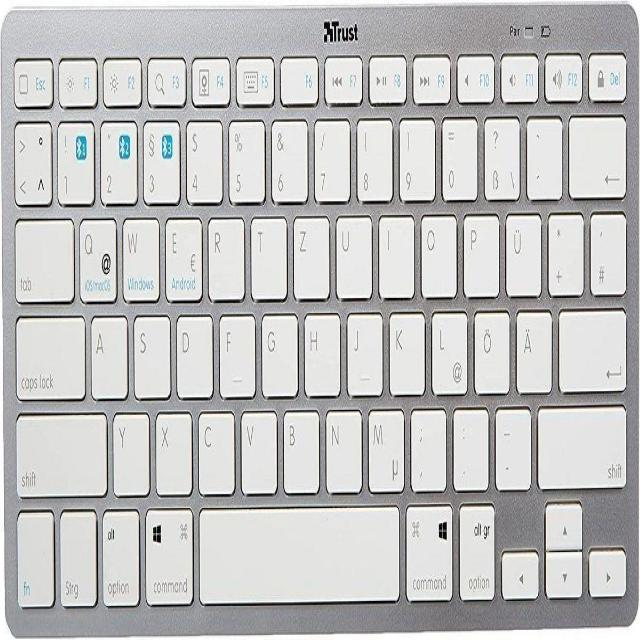0: (438, 109, 477, 199)
1: (55, 115, 94, 203)
2: (99, 113, 138, 203)
3: (140, 113, 180, 203)
4: (183, 113, 222, 201)
5: (225, 112, 264, 200)
6: (268, 112, 307, 200)
7: (311, 112, 349, 200)
8: (353, 111, 392, 199)
9: (395, 111, 434, 199)
a: (87, 308, 127, 396)
accent: (523, 108, 561, 196)
ae: (512, 303, 550, 390)
alt-left: (99, 503, 140, 605)
altgr-right: (456, 496, 495, 599)
b: (279, 401, 318, 490)
c: (194, 404, 234, 492)
caret: (11, 113, 51, 203)
comma: (407, 400, 445, 488)
d: (172, 307, 211, 395)
del: (566, 107, 625, 196)
e: (162, 210, 202, 299)
enter: (555, 302, 626, 389)
f: (215, 307, 254, 395)
g: (258, 306, 296, 394)
h: (300, 306, 339, 393)
hash: (587, 205, 625, 293)
i: (375, 208, 413, 296)
j: (343, 304, 381, 394)
k: (386, 303, 424, 392)
keyboard: (1, 3, 639, 633)
l: (428, 305, 467, 393)
less: (11, 114, 51, 204)
m: (364, 400, 403, 490)
minus: (491, 401, 530, 487)
n: (322, 401, 360, 489)
o: (417, 208, 455, 296)
oe: (471, 303, 509, 391)
p: (459, 206, 498, 293)
plus: (545, 205, 583, 293)
point: (450, 401, 489, 487)
q: (76, 210, 117, 300)
r: (205, 209, 244, 298)
s: (130, 308, 170, 396)
shift-left: (14, 404, 107, 496)
shift-lock: (13, 307, 84, 397)
shift-right: (533, 397, 626, 487)
space: (196, 498, 399, 602)
ss: (480, 110, 519, 198)
strg-left: (57, 504, 98, 606)
t: (247, 209, 286, 297)
tab: (12, 210, 73, 299)
u: (332, 207, 371, 297)
ue: (502, 205, 541, 294)
v: (237, 403, 276, 491)
w: (119, 208, 158, 300)
x: (152, 404, 191, 492)
y: (110, 405, 150, 493)
z: (290, 207, 328, 297)
